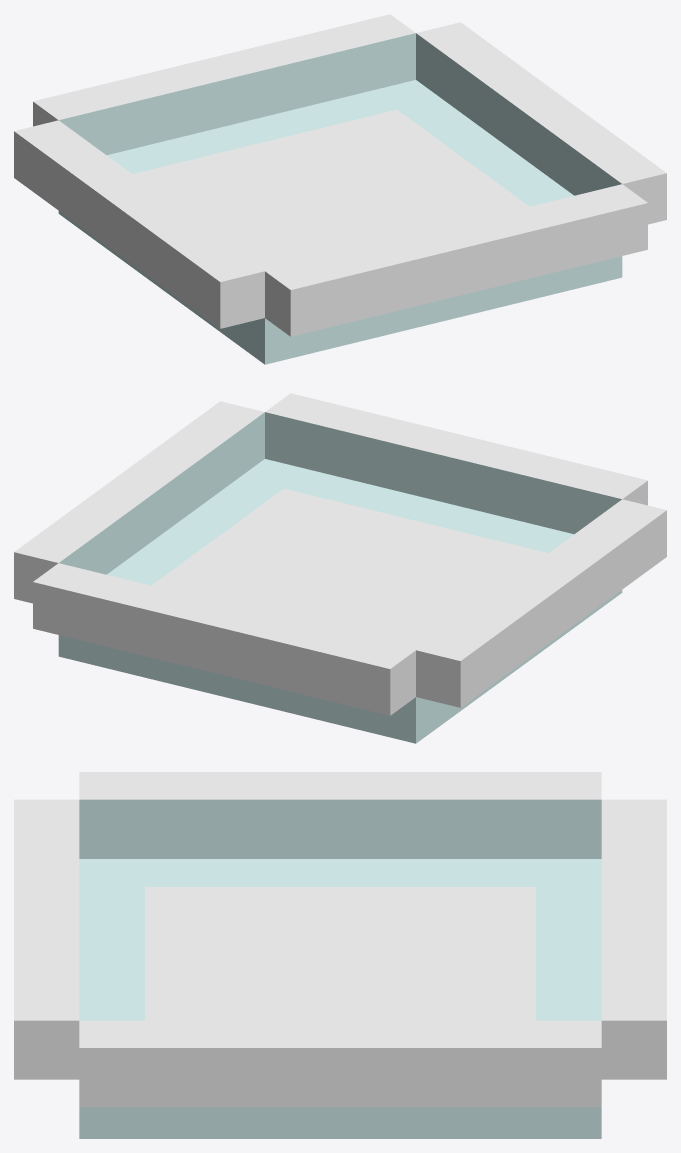
The model's file is Plate.obj.
The picture shows the model from 3 angles, top to bottom: view 1: azimuth 30°, elevation 25°; view 2: azimuth 150°, elevation 25°; view 3: azimuth 270°, elevation 25°; orthographic projection. The views are drawn at different scales.
Visible parts, largest first — view 1: cube; view 2: cube; view 3: cube.
Part boxes in pixels (x1,y1,x2,y2): cube: [14, 14, 666, 364]; cube: [14, 393, 666, 743]; cube: [14, 772, 666, 1138].
Bounding box in the file's own units: 0.625 × 0.125 × 0.625.
